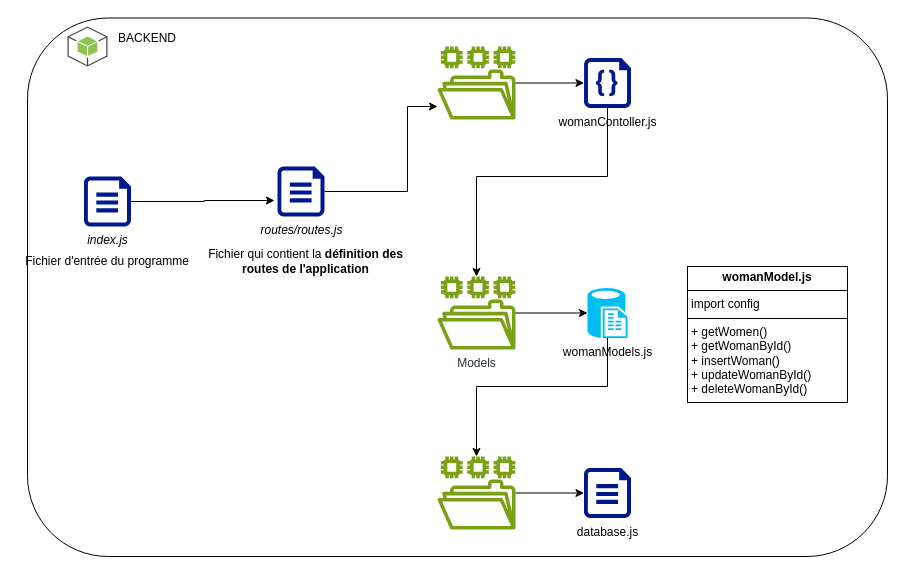
Image size: 905x574. Some labels were removed from this diagram. The centre of each missing label's shape, as x and y in pixels:
"Config" goes at point (476, 492).
"Controllers" goes at point (476, 82).
"NodeJS" goes at point (87, 46).
